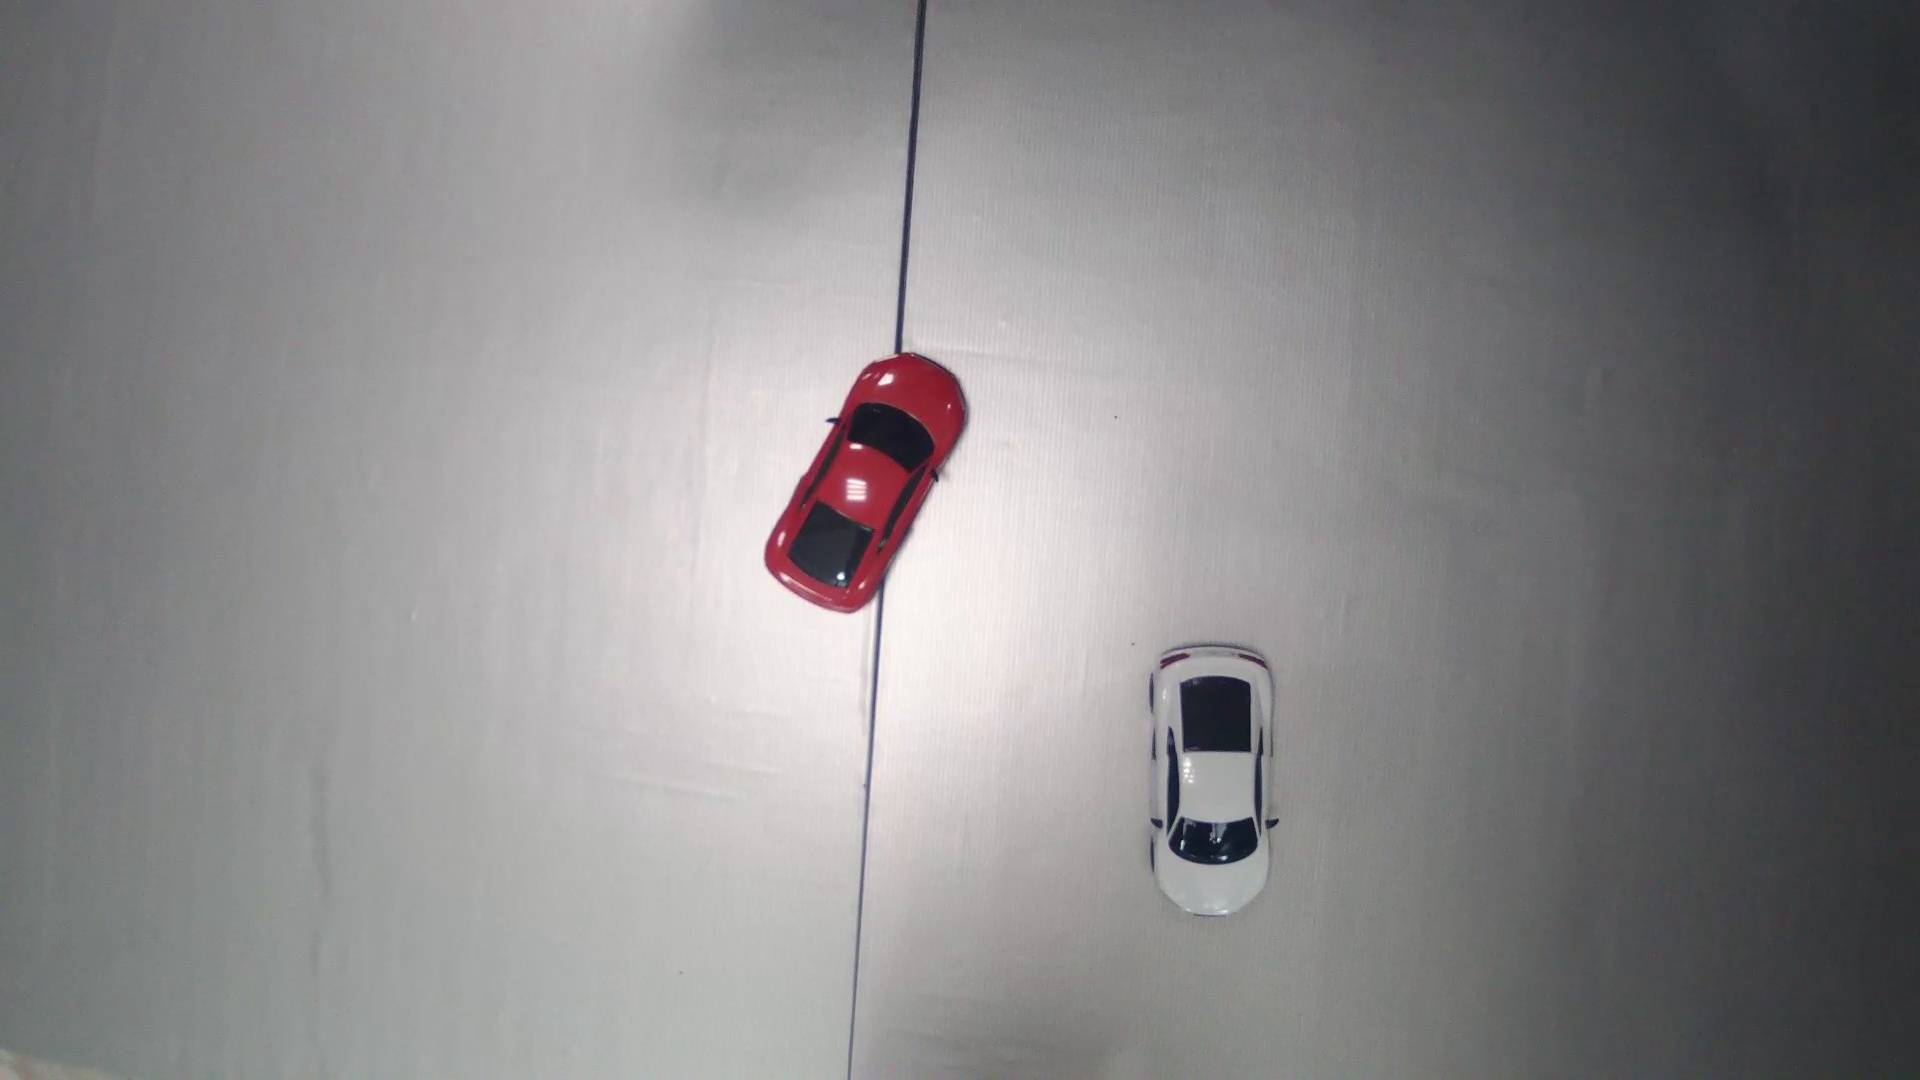remote_car: (761, 351, 969, 615), (1149, 641, 1280, 923)
